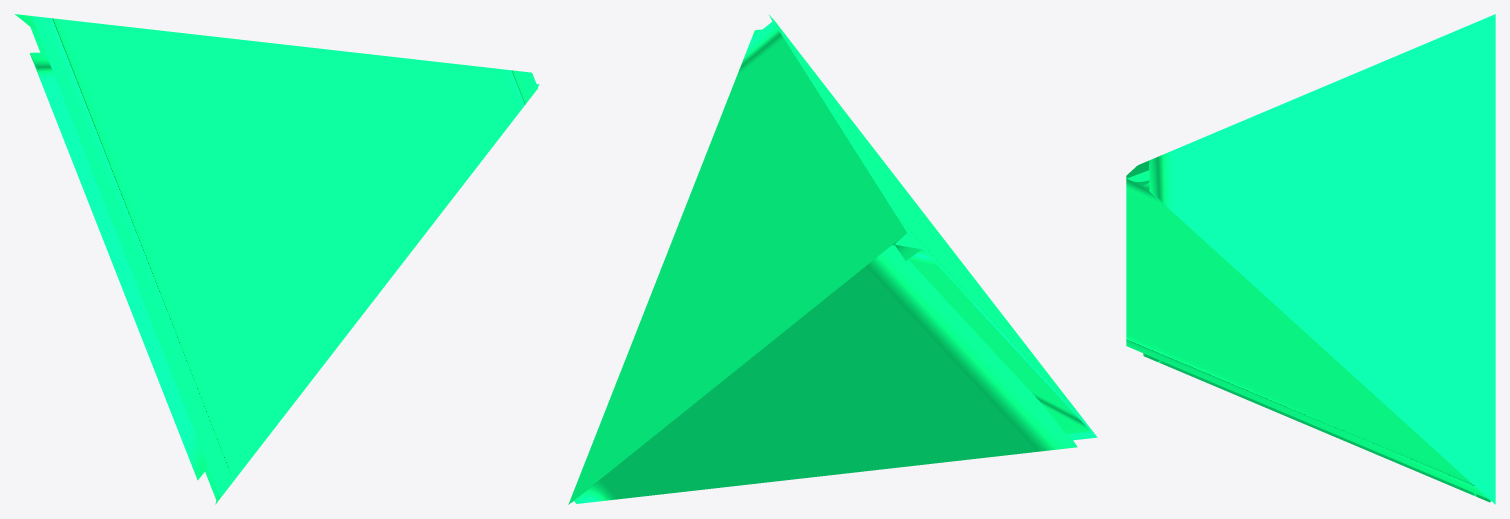
Rendered from five_cell_4d_simplex_ar_universal.glb.
3 views of the same model, side by side, from view 1: azimuth 30°, elevation 25°; view 2: azimuth 150°, elevation 25°; view 3: azimuth 270°, elevation 25° (orthographic). The views are drawn at different scales.
Visible parts, largest first — view 1: five_cell_4d_simplex_ar; view 2: five_cell_4d_simplex_ar; view 3: five_cell_4d_simplex_ar.
Boxes of the visible parts, x1=… form: five_cell_4d_simplex_ar: x1=15, y1=14, x2=539, y2=504; five_cell_4d_simplex_ar: x1=568, y1=15, x2=1097, y2=504; five_cell_4d_simplex_ar: x1=1126, y1=14, x2=1495, y2=504.
Size of the model in its own units: 1 by 1 by 1.
